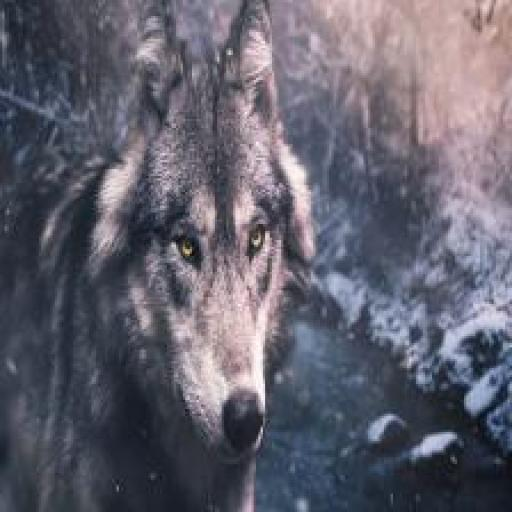wolf: (2, 0, 316, 505)
